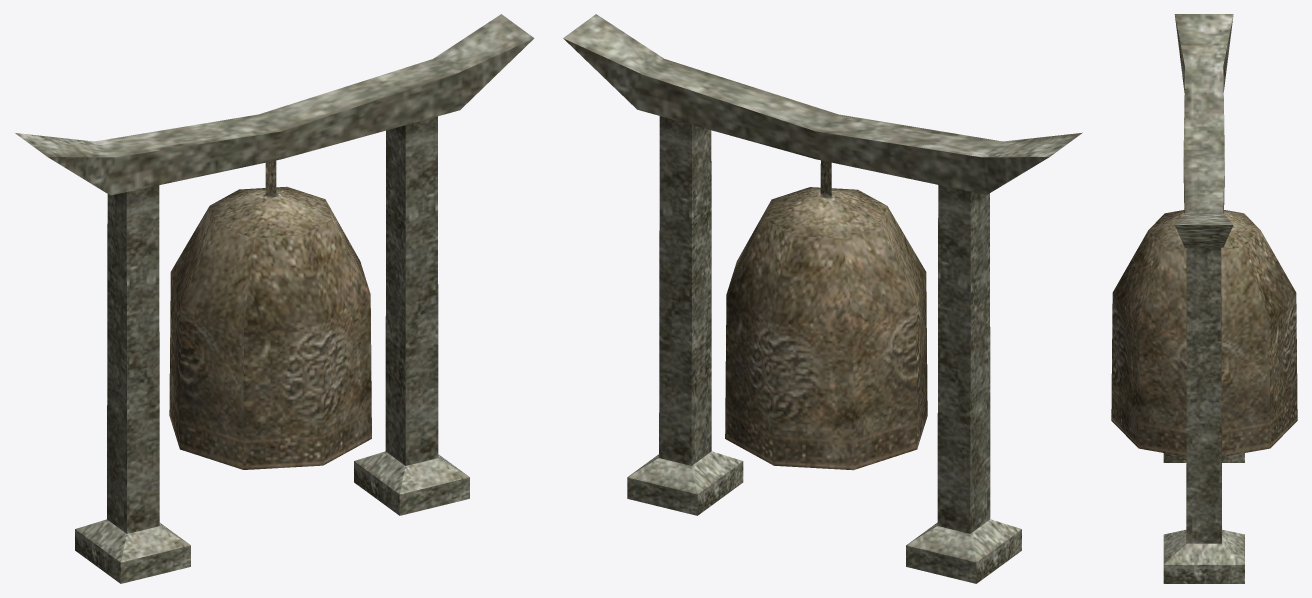
The model's file is general_obj_bell.fbx.
3 renders of one model, left to right at view 1: azimuth 30°, elevation 25°; view 2: azimuth 150°, elevation 25°; view 3: azimuth 270°, elevation 25°, orthographic. The views are drawn at different scales.
Parts seen in each view (by area): view 1: Object24; view 2: Object24; view 3: Object24.
Part boxes in pixels (<box>): Object24: <box>15,14,534,583</box>; Object24: <box>563,14,1082,583</box>; Object24: <box>1111,14,1297,583</box>.
Bounding box in the file's own units: 3.6 × 3.1 × 1.34.
